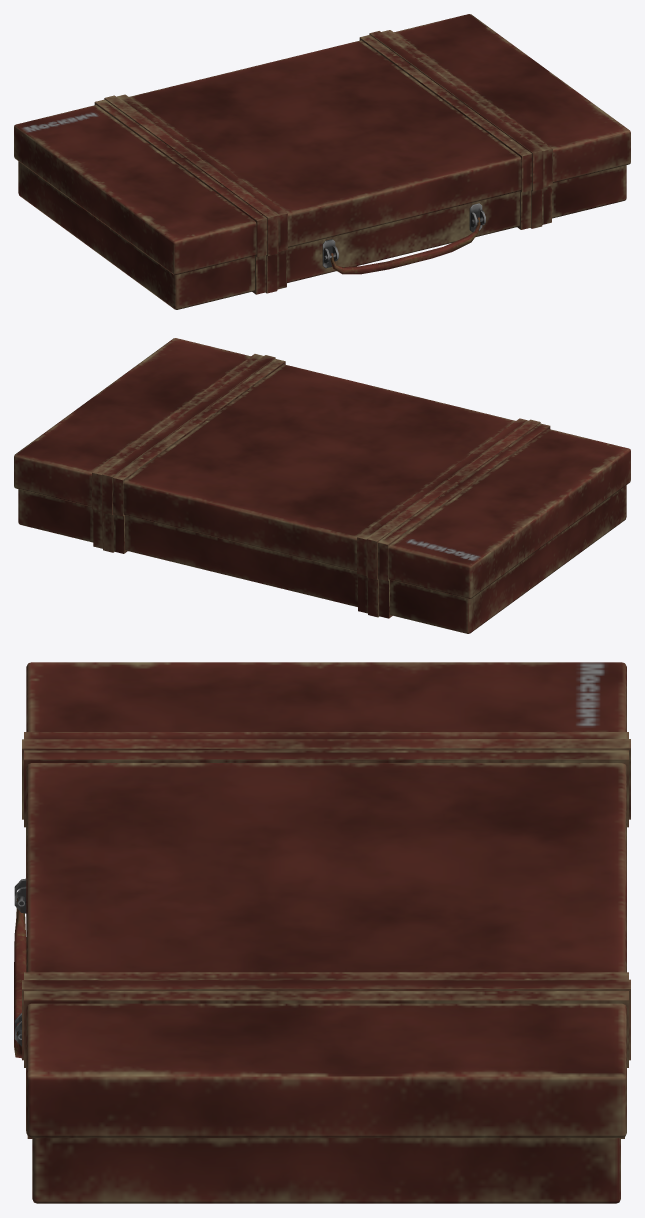
3 renders of one model, top to bottom at view 1: azimuth 30°, elevation 25°; view 2: azimuth 150°, elevation 25°; view 3: azimuth 270°, elevation 25°, orthographic. The views are drawn at different scales.
Visible parts, largest first — view 1: Cube.001, Cube, Cube.005, Cube.004, Vert; view 2: Cube.001, Cube, Cube.005, Cube.004; view 3: Cube.001, Cube, Cube.004, Cube.005, Vert.
Part boxes in pixels (x1,y1,x2,y2): Cube.001: [14, 14, 630, 274]; Cube: [18, 161, 626, 309]; Cube.005: [94, 94, 287, 294]; Cube.004: [359, 30, 552, 229]; Vert: [330, 217, 480, 274]; Cube.001: [14, 338, 630, 598]; Cube: [18, 485, 626, 633]; Cube.005: [357, 418, 550, 618]; Cube.004: [92, 354, 285, 553]; Cube.001: [26, 662, 626, 1137]; Cube: [32, 1138, 620, 1203]; Cube.004: [22, 972, 630, 1138]; Cube.005: [22, 732, 630, 878]; Vert: [14, 898, 26, 1058].
Bounding box in the file's own units: 3.74 × 0.6241 × 2.35.
Materials: 3 (3 with a texture image).
